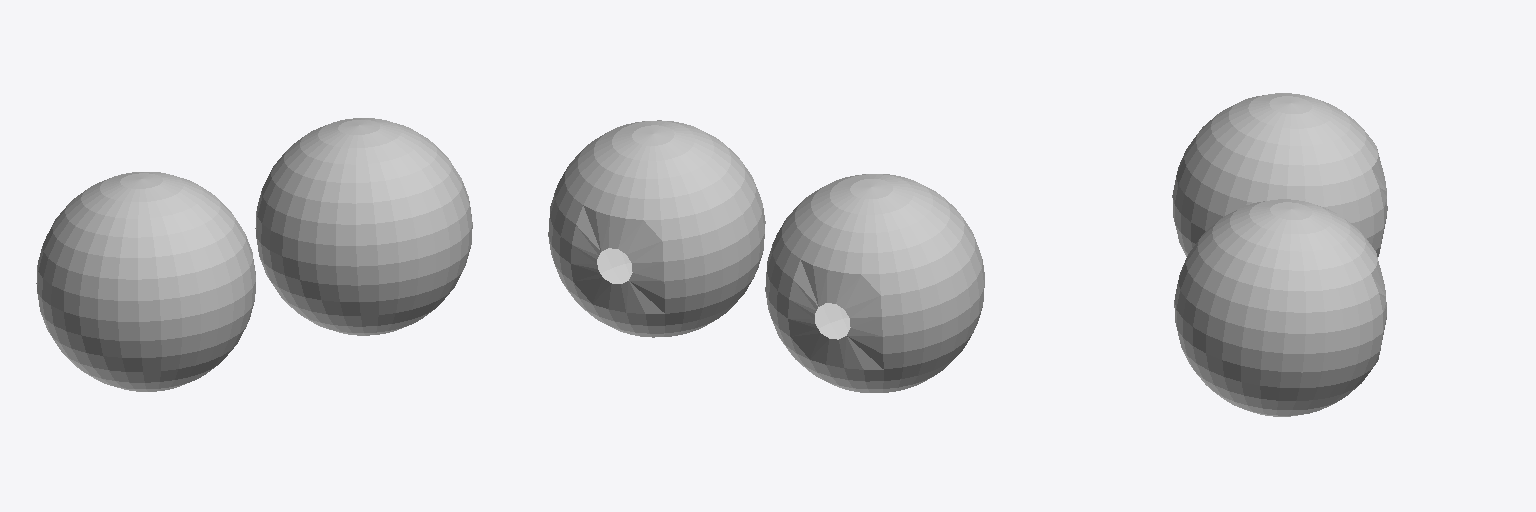
The model's file is RepoEyes.obj.
The picture shows the model from 3 angles: view 1: azimuth 30°, elevation 25°; view 2: azimuth 150°, elevation 25°; view 3: azimuth 270°, elevation 25°; orthographic projection.
Parts seen in each view (by area): view 1: Sphere, Sphere.001; view 2: Sphere, Sphere.001; view 3: Sphere.001, Sphere.
Part boxes in pixels (bbox=[...]): Sphere: bbox=[36, 172, 255, 391]; Sphere.001: bbox=[255, 118, 472, 335]; Sphere: bbox=[765, 174, 984, 392]; Sphere.001: bbox=[548, 120, 765, 337]; Sphere.001: bbox=[1174, 199, 1386, 416]; Sphere: bbox=[1172, 93, 1387, 256].
Bounding box in the file's own units: 1.01 × 0.4717 × 0.4606.